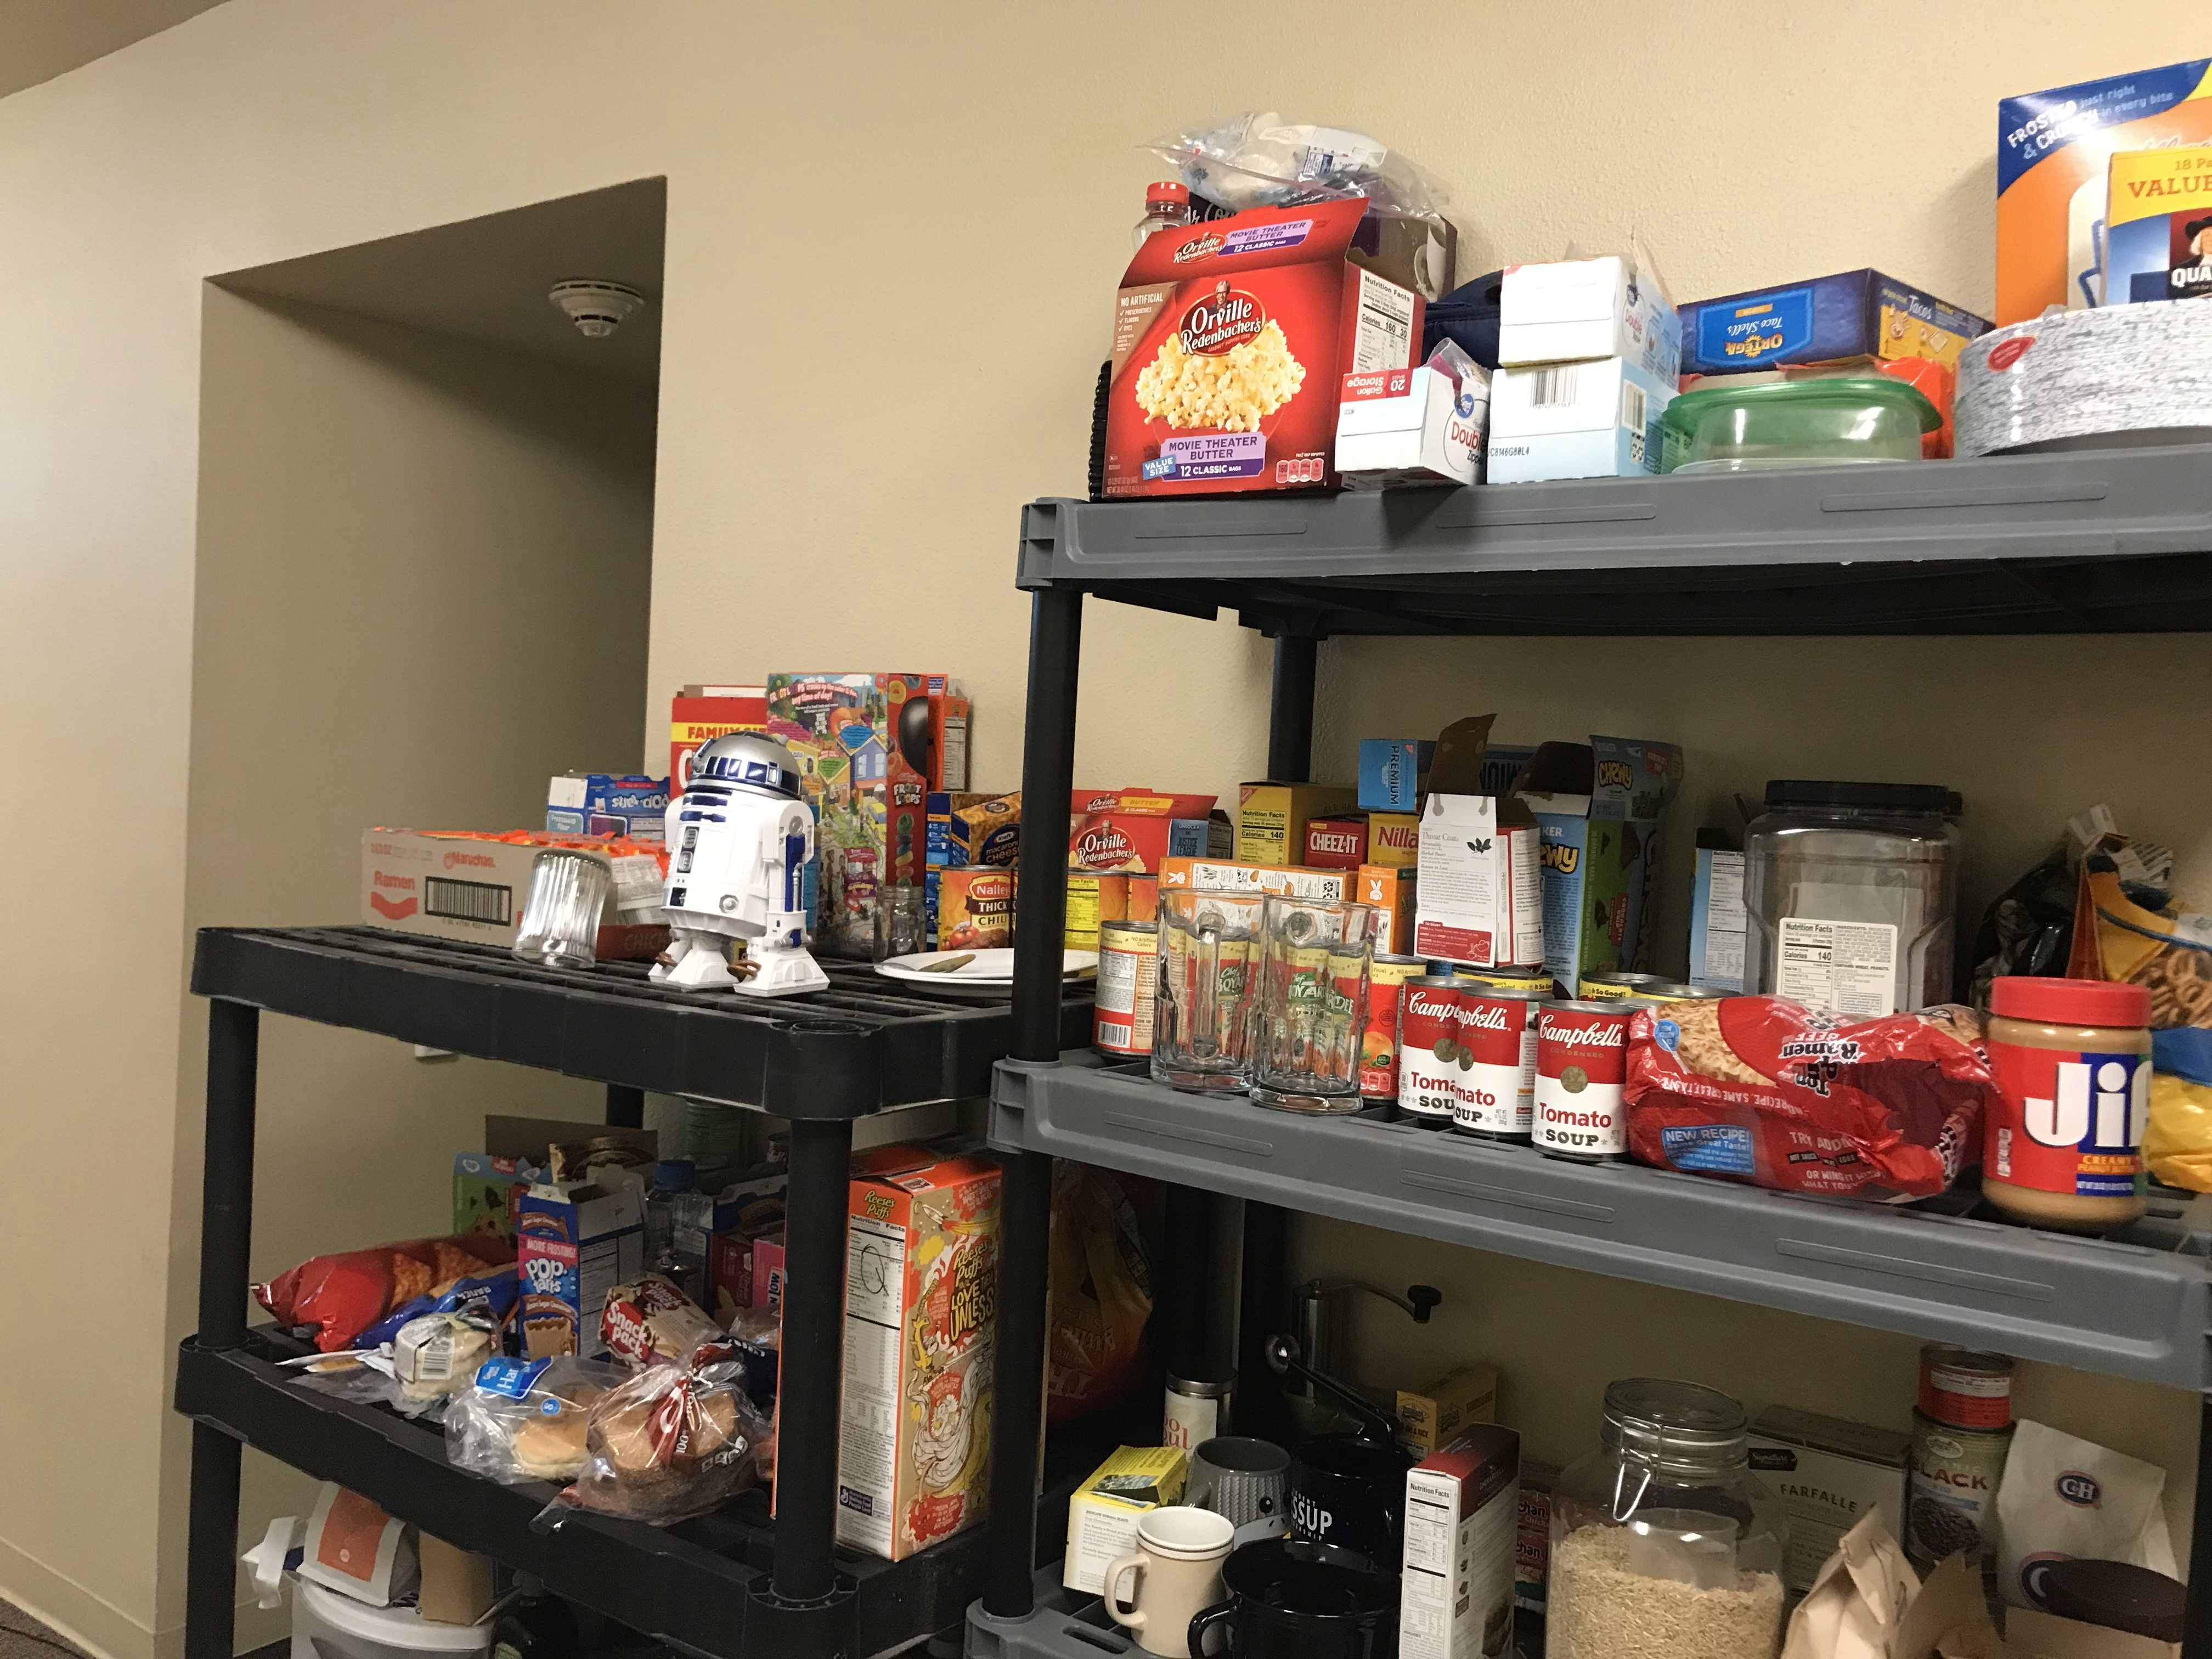r2d2: (655, 730, 833, 993)
